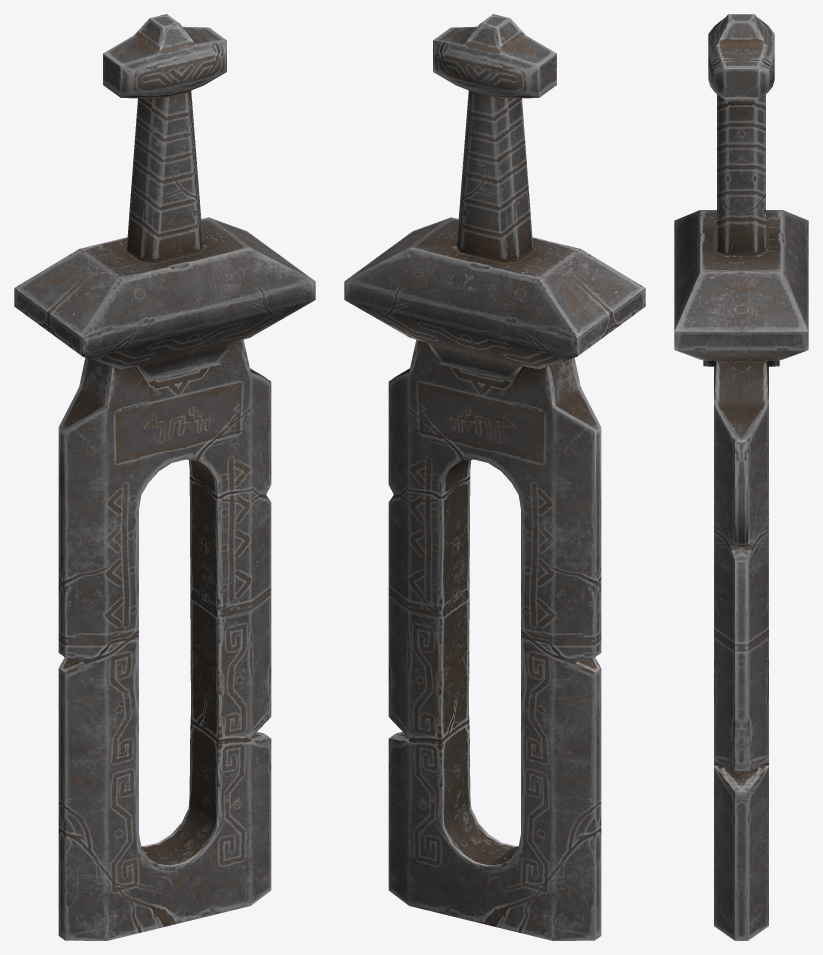
The model's file is ethiofense.glb.
3 renders of one model, left to right at view 1: azimuth 30°, elevation 25°; view 2: azimuth 150°, elevation 25°; view 3: azimuth 270°, elevation 25°, orthographic. The views are drawn at different scales.
Visible parts, largest first — view 1: AncientRuins_Sword_M_AncientRuins_Props_0; view 2: AncientRuins_Sword_M_AncientRuins_Props_0; view 3: AncientRuins_Sword_M_AncientRuins_Props_0.
Boxes of the visible parts, x1,y1,x2,y2 form: AncientRuins_Sword_M_AncientRuins_Props_0: (14,14,315,940); AncientRuins_Sword_M_AncientRuins_Props_0: (344,14,645,940); AncientRuins_Sword_M_AncientRuins_Props_0: (674,14,808,940).
Size of the model in its own units: 2.64 by 9.68 by 1.35.
Materials: 1 (1 with a texture image).
